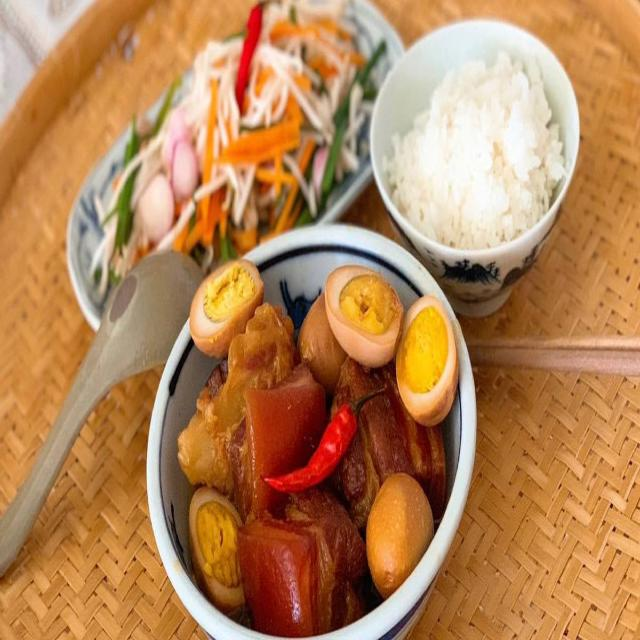com: (385, 53, 564, 249)
kho trung: (178, 261, 458, 636)
